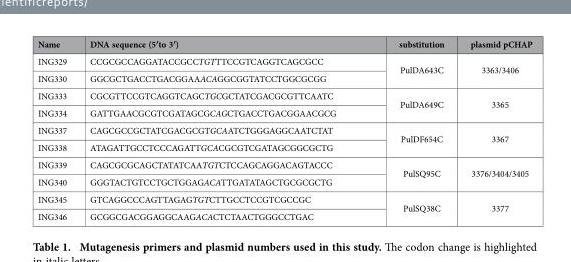table: (37, 37, 531, 222)
table column: (77, 37, 366, 222), (366, 37, 456, 222), (456, 37, 531, 222), (37, 37, 77, 222)
table column header: (37, 37, 531, 52)
table row: (37, 103, 531, 121), (37, 155, 531, 173), (37, 52, 531, 69), (37, 69, 531, 86), (37, 86, 531, 103), (37, 121, 531, 138), (37, 138, 531, 155), (37, 173, 531, 190), (37, 190, 531, 207), (37, 37, 531, 52), (37, 207, 531, 222)
table spanning cell: (366, 86, 456, 121), (366, 155, 456, 190), (366, 52, 456, 86), (366, 121, 456, 155), (366, 190, 456, 222), (456, 86, 531, 121), (456, 155, 531, 190), (456, 52, 531, 86), (456, 121, 531, 155), (456, 190, 531, 222)
